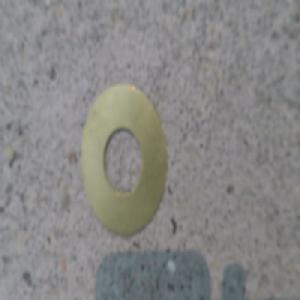Washer: (80, 83, 166, 228)
